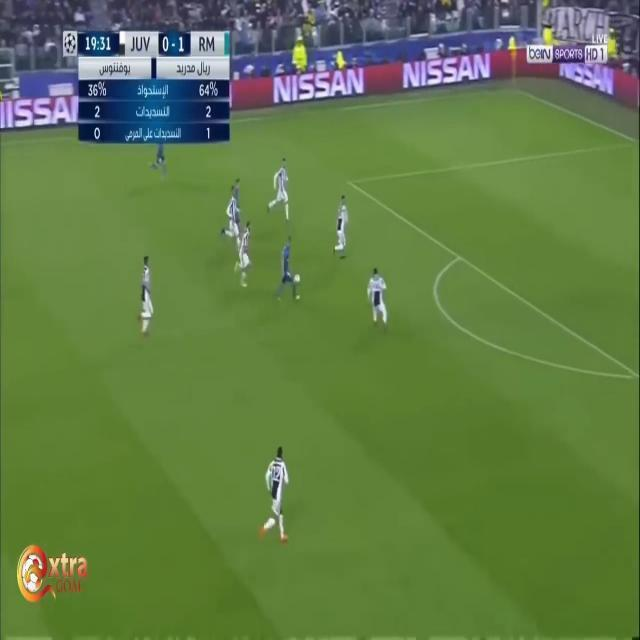ball: (292, 268, 302, 289)
player: (262, 447, 291, 545), (276, 235, 301, 303), (234, 218, 255, 295), (363, 268, 387, 332), (269, 158, 292, 222), (140, 255, 157, 340), (333, 194, 351, 258), (226, 177, 244, 236)
